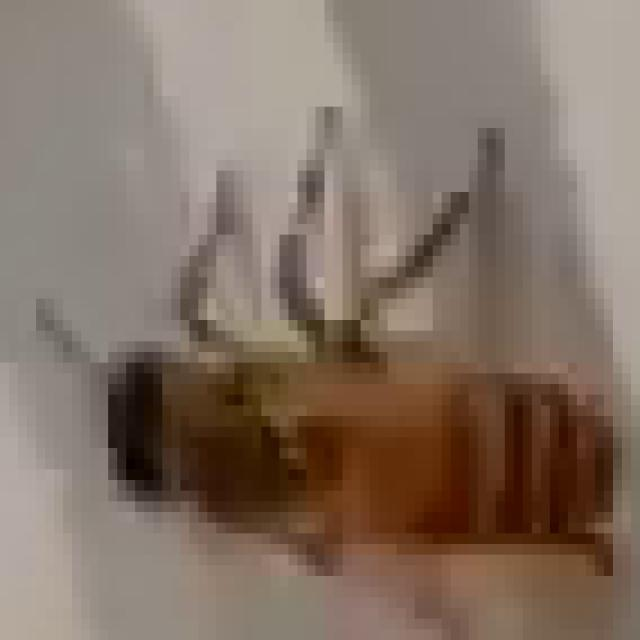honeybee: (100, 324, 616, 588)
